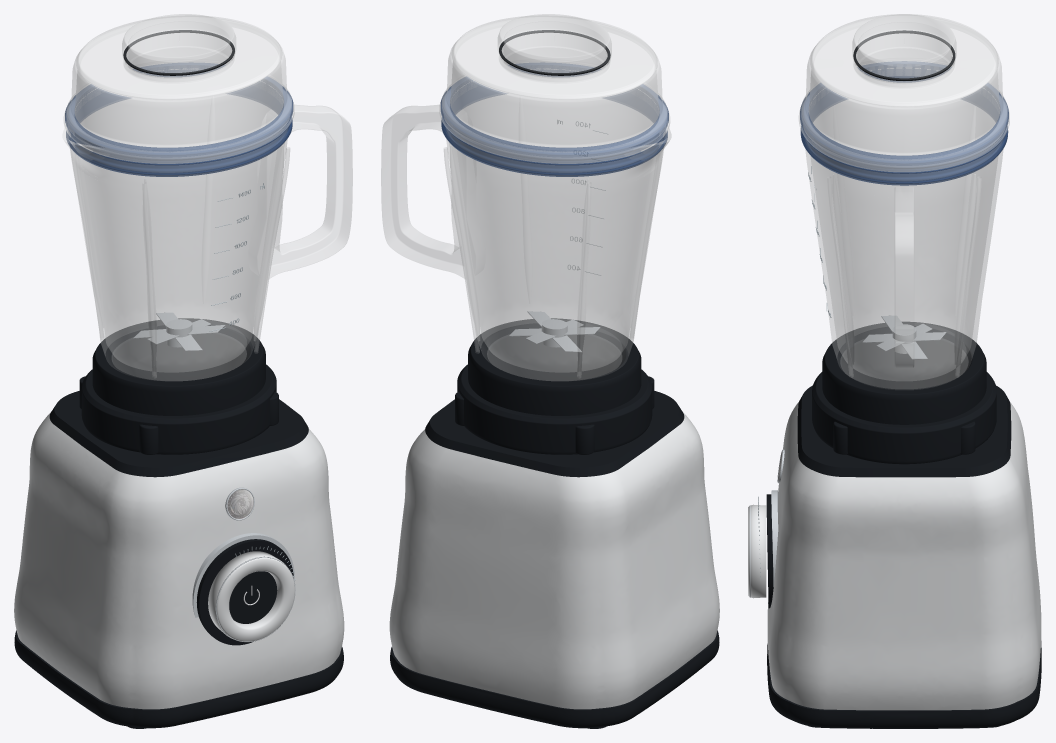
File: power-blender-max-v08.glb
The picture shows the model from 3 angles, left to right: view 1: azimuth 30°, elevation 25°; view 2: azimuth 150°, elevation 25°; view 3: azimuth 270°, elevation 25°; orthographic projection.
Visible parts, largest first — view 1: 01 · Base motor001.001, Vaso con pico continuo v03.001, Tapa v04 · cuerpo cilíndrico hueco.001, v08 · Collar recto del vaso.001, Tapa v04 · junta insertada.001, v08 · Zócalo negro inferior.001, Tapa v04 · borde superior.001, v08 · Asa moldeada continua.001, 01 · Base motor002.001, 01 · Base motor.001, Tapón v04 · inserto central ancho.001, v06 · Aro blanco saliente con cavidad.001 (+12 smaller); view 2: 01 · Base motor001.001, Vaso con pico continuo v03.001, Tapa v04 · cuerpo cilíndrico hueco.001, v08 · Collar recto del vaso.001, Tapa v04 · junta insertada.001, v08 · Zócalo negro inferior.001, Tapa v04 · borde superior.001, v08 · Asa moldeada continua.001, 01 · Base motor002.001, 01 · Base motor.001, Tapón v04 · inserto central ancho.001, Tapa v04 · anillo intermedio transparente.001 (+7 smaller); view 3: 01 · Base motor001.001, Vaso con pico continuo v03.001, Tapa v04 · cuerpo cilíndrico hueco.001, v08 · Collar recto del vaso.001, Tapa v04 · junta insertada.001, v08 · Zócalo negro inferior.001, Tapa v04 · borde superior.001, 01 · Base motor002.001, Tapón v04 · inserto central ancho.001, 01 · Base motor.001, v08 · Asa moldeada continua.001, v06 · Aro blanco saliente con cavidad.001 (+9 smaller).
Part boxes in pixels (x1,y1,x2,y2): 01 · Base motor001.001: (14, 411, 344, 709); Vaso con pico continuo v03.001: (62, 94, 287, 380); Tapa v04 · cuerpo cilíndrico hueco.001: (66, 19, 291, 155); v08 · Collar recto del vaso.001: (92, 318, 265, 415); Tapa v04 · junta insertada.001: (65, 62, 293, 176); v08 · Zócalo negro inferior.001: (81, 358, 276, 454); Tapa v04 · borde superior.001: (76, 15, 281, 100); v08 · Asa moldeada continua.001: (257, 105, 352, 278); 01 · Base motor002.001: (49, 391, 308, 477); 01 · Base motor.001: (14, 630, 343, 728); Tapón v04 · inserto central ancho.001: (122, 14, 235, 78); v06 · Aro blanco saliente con cavidad.001: (208, 551, 294, 641); 01 · Base motor001.001: (389, 411, 719, 709); Vaso con pico continuo v03.001: (446, 94, 671, 380); Tapa v04 · cuerpo cilíndrico hueco.001: (442, 19, 667, 155); v08 · Collar recto del vaso.001: (468, 318, 641, 415); Tapa v04 · junta insertada.001: (440, 62, 668, 176); v08 · Zócalo negro inferior.001: (457, 358, 652, 454); Tapa v04 · borde superior.001: (452, 15, 657, 100); v08 · Asa moldeada continua.001: (381, 105, 476, 278); 01 · Base motor002.001: (425, 391, 684, 477); 01 · Base motor.001: (390, 630, 719, 728); Tapón v04 · inserto central ancho.001: (498, 14, 611, 78); Tapa v04 · anillo intermedio transparente.001: (439, 101, 669, 163); 01 · Base motor001.001: (767, 402, 1041, 710); Vaso con pico continuo v03.001: (805, 99, 1003, 389); Tapa v04 · cuerpo cilíndrico hueco.001: (801, 17, 1007, 163); v08 · Collar recto del vaso.001: (822, 322, 986, 424); Tapa v04 · junta insertada.001: (800, 61, 1008, 185); v08 · Zócalo negro inferior.001: (812, 363, 996, 464); Tapa v04 · borde superior.001: (810, 14, 998, 107); 01 · Base motor002.001: (797, 385, 1011, 477); Tapón v04 · inserto central ancho.001: (852, 14, 956, 83); 01 · Base motor.001: (767, 641, 1041, 728); v08 · Asa moldeada continua.001: (894, 187, 914, 367); v06 · Aro blanco saliente con cavidad.001: (748, 504, 766, 598).
Size of the model in its own units: 0.2445 by 0.508 by 0.2105.
Materials: 8 (1 with a texture image).
